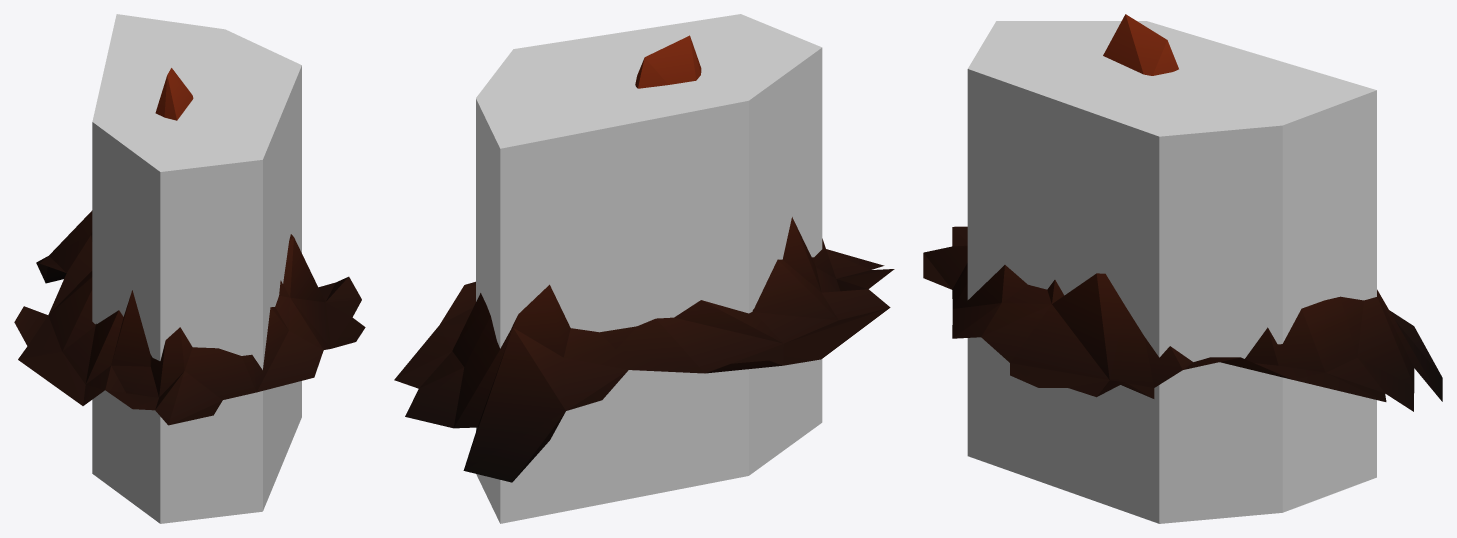
The model's file is island_small_volcanic_Collection_7.fbx.
The picture shows the model from 3 angles, left to right: view 1: azimuth 30°, elevation 25°; view 2: azimuth 150°, elevation 25°; view 3: azimuth 270°, elevation 25°; orthographic projection. The views are drawn at different scales.
Visible parts, largest first — view 1: islandRock_7_col, islandRock_7; view 2: islandRock_7_col, islandRock_7; view 3: islandRock_7_col, islandRock_7.
Boxes of the visible parts, box(x1,y1,x2,y2) form: islandRock_7_col: box(92, 14, 301, 523); islandRock_7: box(14, 68, 365, 425); islandRock_7_col: box(476, 14, 822, 523); islandRock_7: box(394, 35, 894, 482); islandRock_7_col: box(967, 21, 1376, 523); islandRock_7: box(923, 14, 1442, 411).
Bounding box in the file's own units: 2923 × 3425 × 3755.
